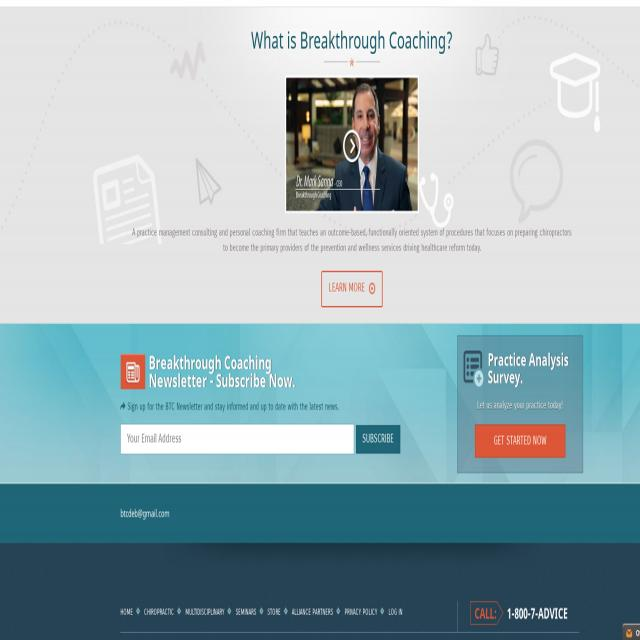button: (285, 75, 419, 213), (475, 424, 565, 458), (321, 271, 383, 308), (356, 426, 400, 452)
field: (120, 425, 354, 454)
